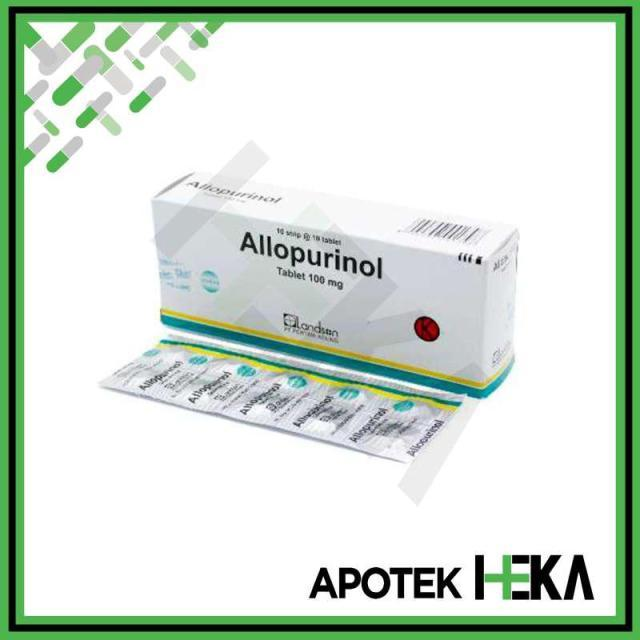drug-name: (237, 228, 386, 286)
